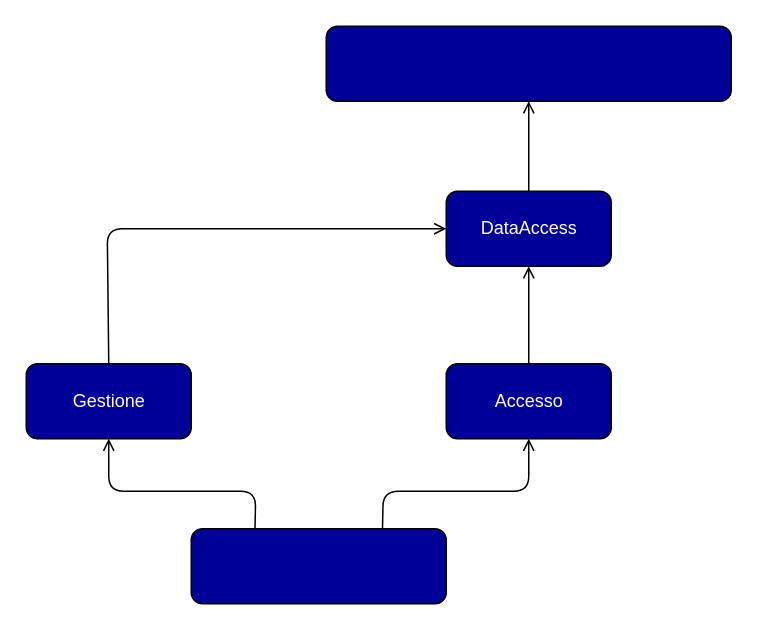
The diagram is 758 pixels wide and 630 high, and some of its shapes have lost their labels. Each missing label, with the box of its shape:
DriverManagerConnectionPool: (325, 25, 731, 101)
FacadeClassBusiness: (190, 527, 446, 604)
